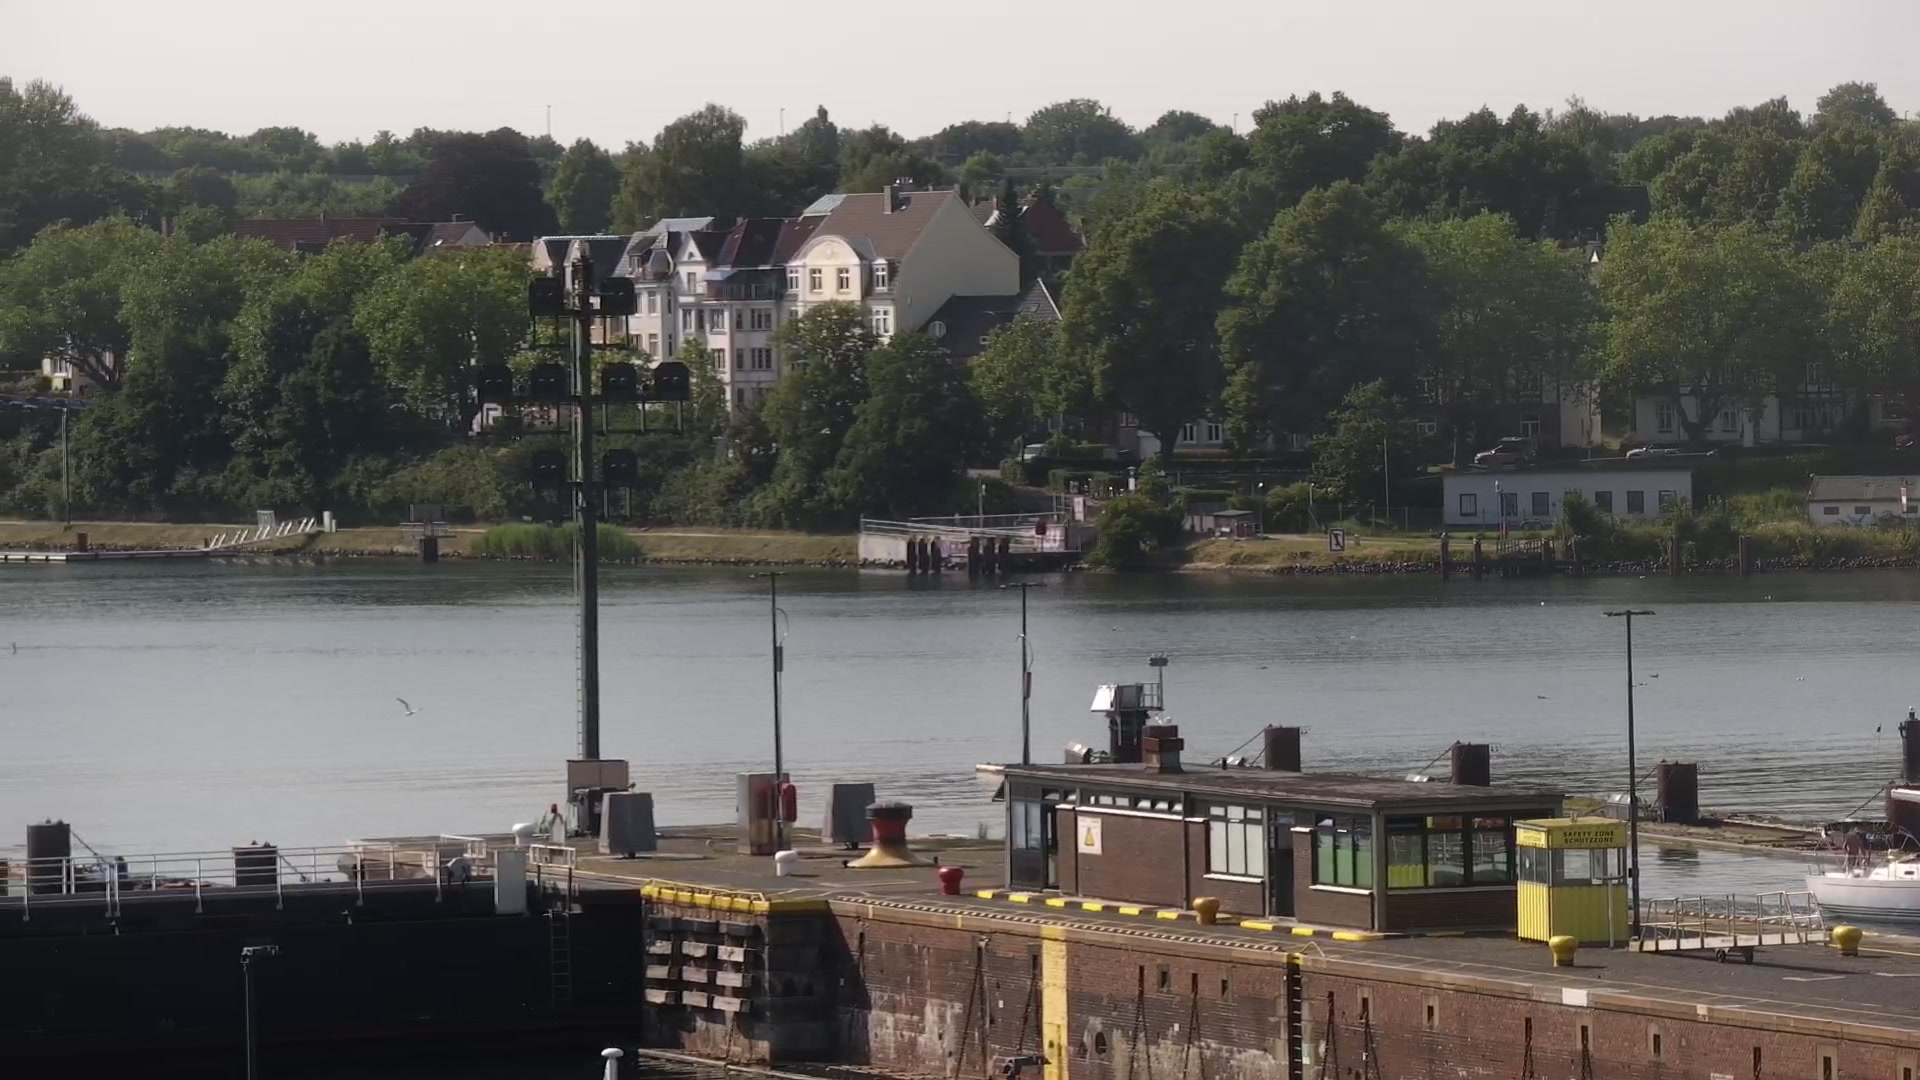human: (1894, 432, 1906, 450)
land: (1473, 443, 1529, 465), (1625, 441, 1681, 457), (1494, 431, 1532, 443)
sea: (1802, 783, 1919, 920)
